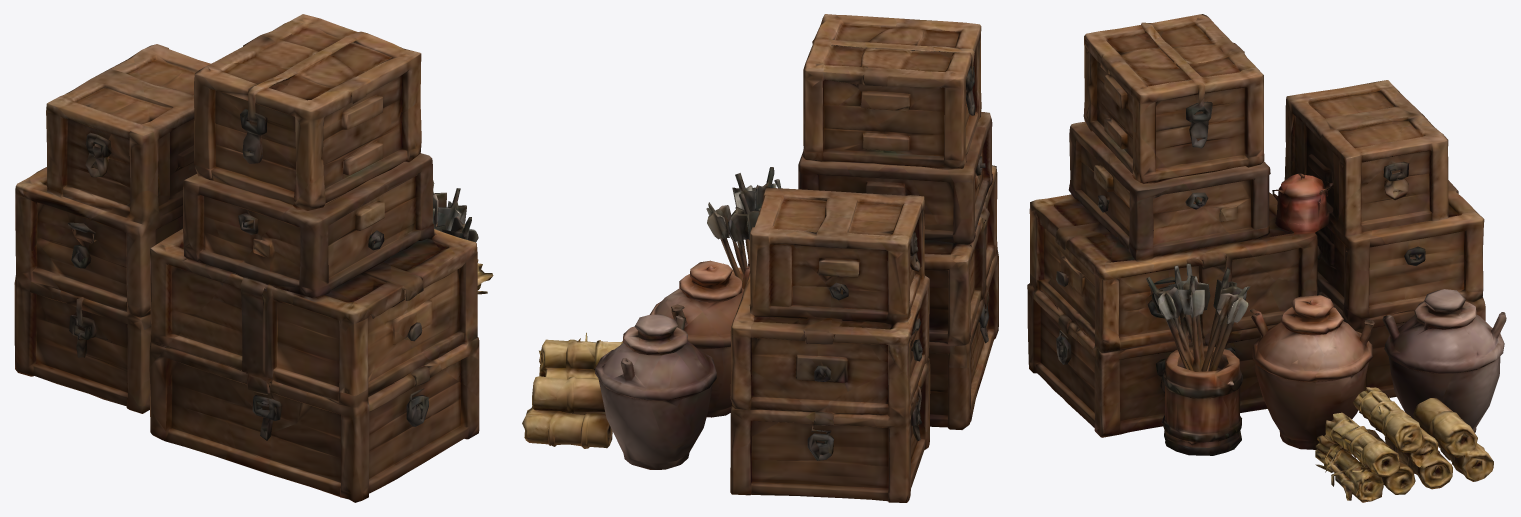
File: supplies-mid.glb
The picture shows the model from 3 angles, left to right: view 1: azimuth 30°, elevation 25°; view 2: azimuth 150°, elevation 25°; view 3: azimuth 270°, elevation 25°; orthographic projection. The views are drawn at different scales.
Size of the model in its own units: 0.9347 by 0.7569 by 0.9934.
1 material, 1 textured.
